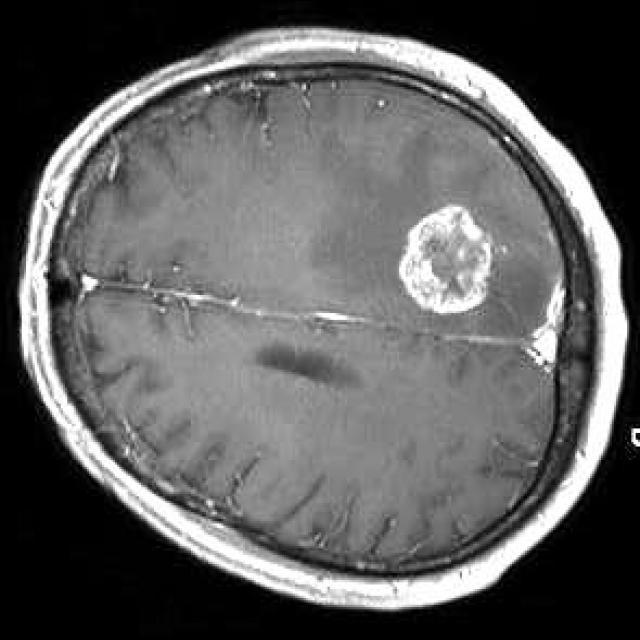tumor: (399, 204, 497, 310)
